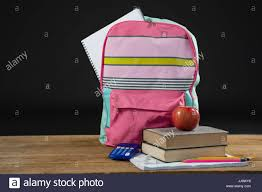apple: (169, 106, 203, 132)
